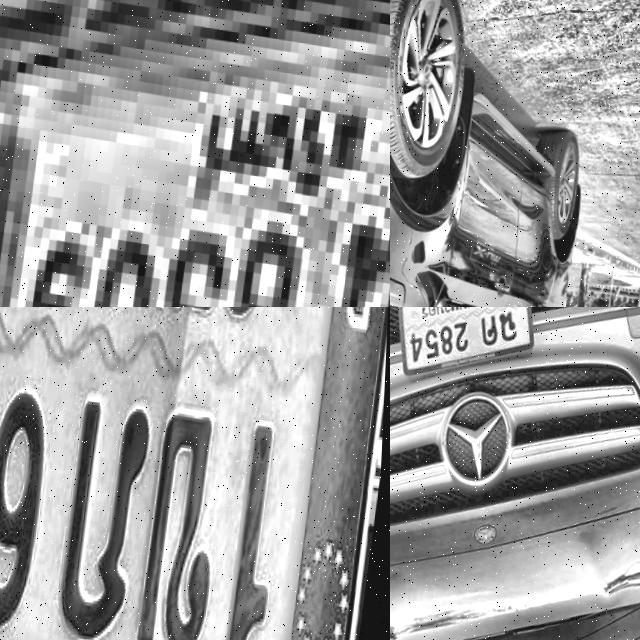license-plate: (0, 307, 390, 640), (0, 0, 390, 307), (391, 307, 545, 392)
